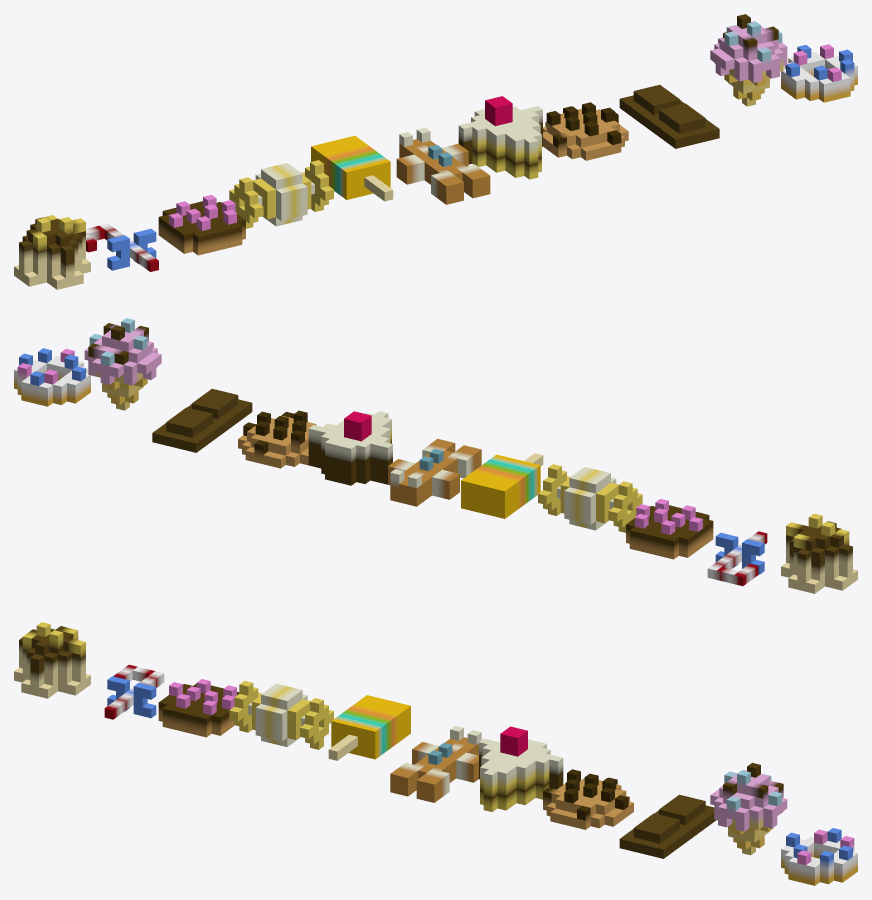
The model's file is candies.dae.
The picture shows the model from 3 angles, top to bottom: view 1: azimuth 30°, elevation 25°; view 2: azimuth 150°, elevation 25°; view 3: azimuth 330°, elevation 25°; orthographic projection.
Parts seen in each view (by area): view 1: candy12, candy1, candy11, candy9, candy10, candy5, candy3, candy2, candy6, candry7, candy8; view 2: candy12, candy1, candy11, candy9, candy10, candy2, candy5, candy6, candry7, candy3, candy8; view 3: candy12, candy1, candy11, candy9, candy10, candy2, candy3, candry7, candy5, candy6, candy8.
Boxes of the visible parts, x1,y1,x2,y2 form: candy12: (458,96,542,179); candy1: (229,160,333,228); candy11: (710,14,787,106); candy9: (14,215,90,289); candy10: (396,127,490,204); candy5: (158,195,245,255); candy3: (543,102,628,160); candy2: (311,135,393,201); candy6: (619,84,719,148); candry7: (781,44,857,102); candy8: (86,223,158,271); candy12: (308,411,392,485); candy1: (538,464,642,532); candy11: (84,318,161,410); candy9: (781,513,857,593); candy10: (388,438,481,506); candy2: (461,453,543,518); candy5: (626,499,713,559); candy6: (152,388,252,452); candry7: (14,348,90,406); candy3: (238,410,316,468); candy8: (707,531,767,586); candy12: (479,726,563,811); candy1: (229,681,333,749); candy11: (710,762,787,855); candy9: (14,622,90,698); candy10: (390,726,481,802); candy2: (328,695,410,760); candy3: (543,769,633,829); candry7: (781,828,857,885); candy5: (158,679,239,737); candy6: (619,794,716,858); candy8: (104,664,164,719).
Size of the model in its own units: 94 by 10 by 11.
Materials: 1 (1 with a texture image).
